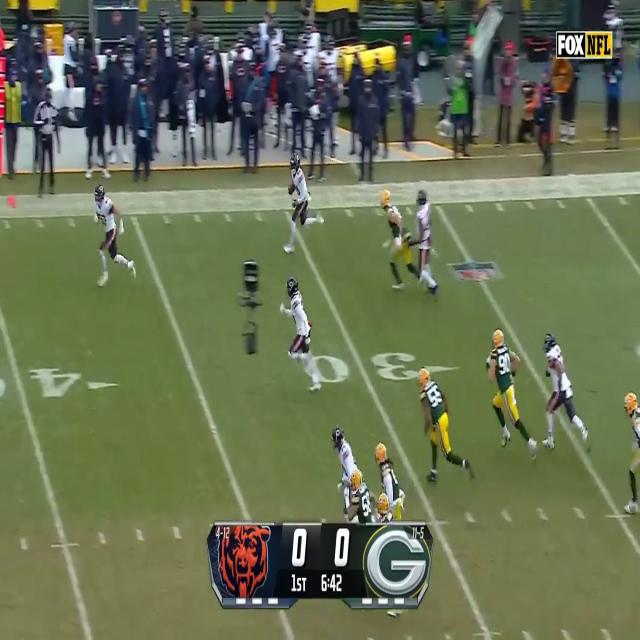Player: (417, 367, 455, 483), (278, 278, 316, 392), (542, 333, 579, 450), (487, 327, 520, 449), (92, 185, 125, 289), (380, 188, 407, 292), (282, 153, 310, 253), (416, 188, 439, 292), (331, 425, 355, 485), (348, 469, 374, 522), (373, 443, 398, 495)
Referee: (34, 81, 58, 200)
